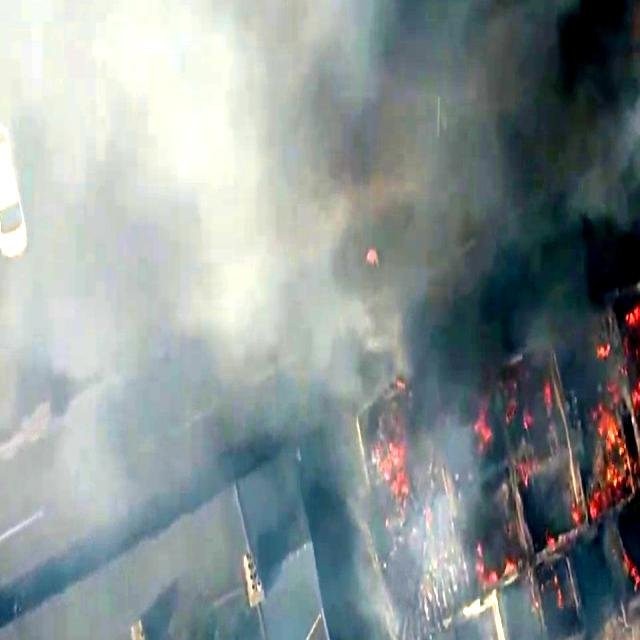smoke: (42, 0, 325, 241)
